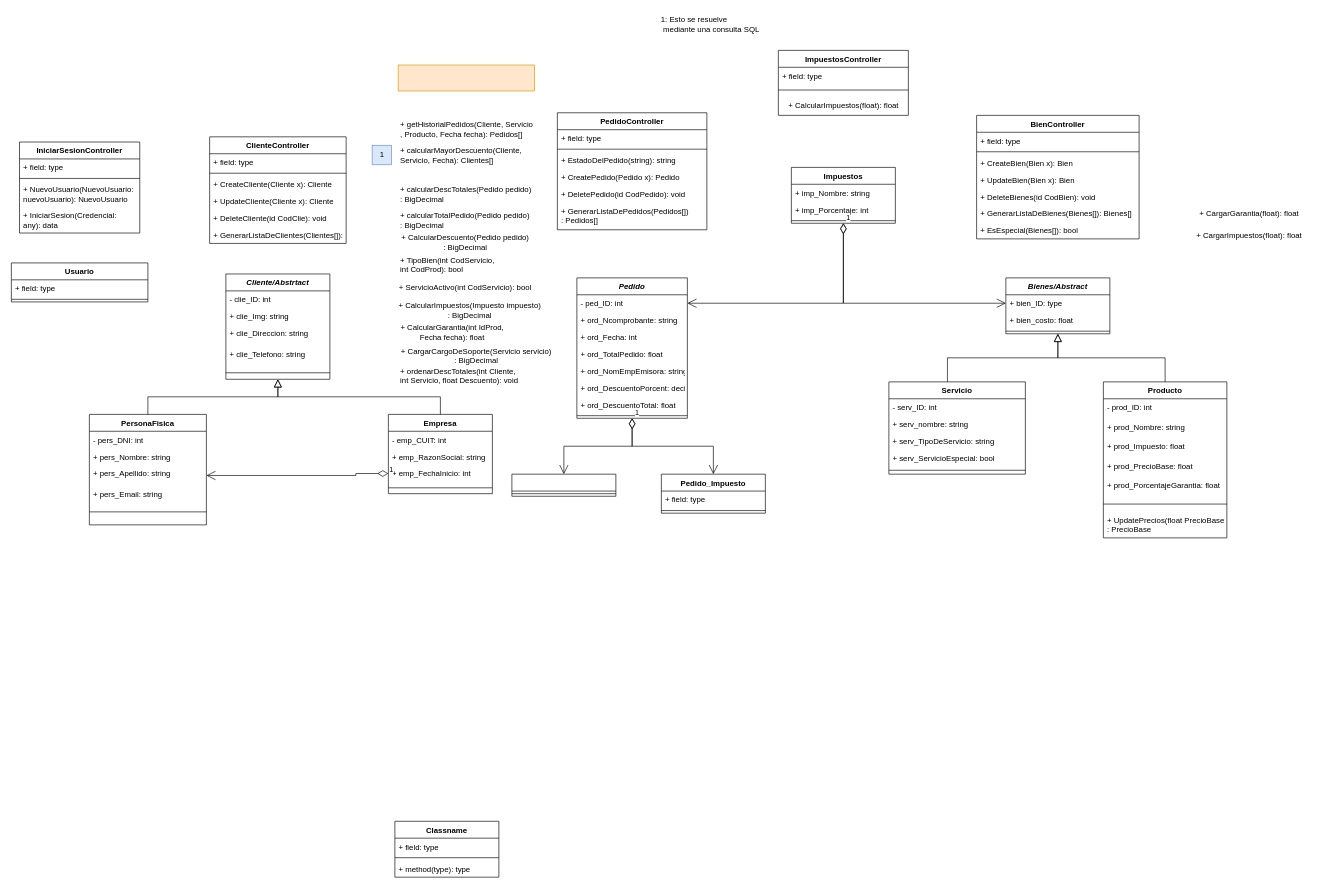
Image size: 1322x890. Some labels were removed from this diagram. The shapes that lost their labels are listed below. From the top down, each one's centre as x and y in pixels, then its label:
At point 466,77: "+ getDatosPersonaFisica(int IdPed): Persona".
At point 563,485: "Detalle".
